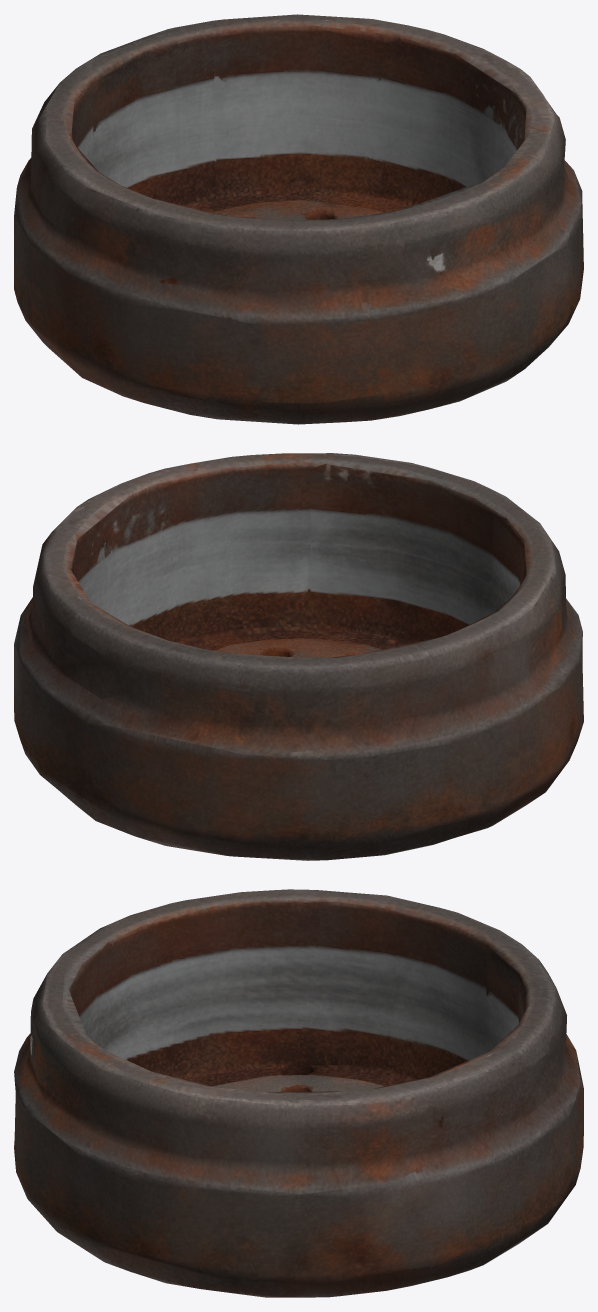
The model's file is rusted_brake_drum.glb.
The picture shows the model from 3 angles, top to bottom: view 1: azimuth 30°, elevation 25°; view 2: azimuth 150°, elevation 25°; view 3: azimuth 270°, elevation 25°; orthographic projection.
Bounding box in the file's own units: 0.32 × 0.121 × 0.32.
1 material, 1 textured.
